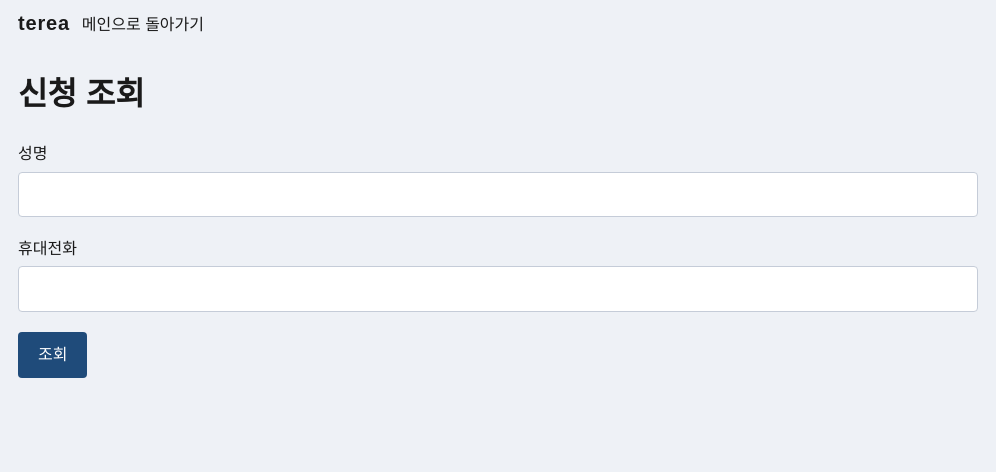
Scenario: R26: 신청 조회 승인 시 QR·경비실 안내 › 대기 상태 조회 시 QR·경비실 안내가 없다
This screenshot has width=996, height=472.
Type "김대기" into the field labelled "성명" at (498,194), box [18,172,978,217]
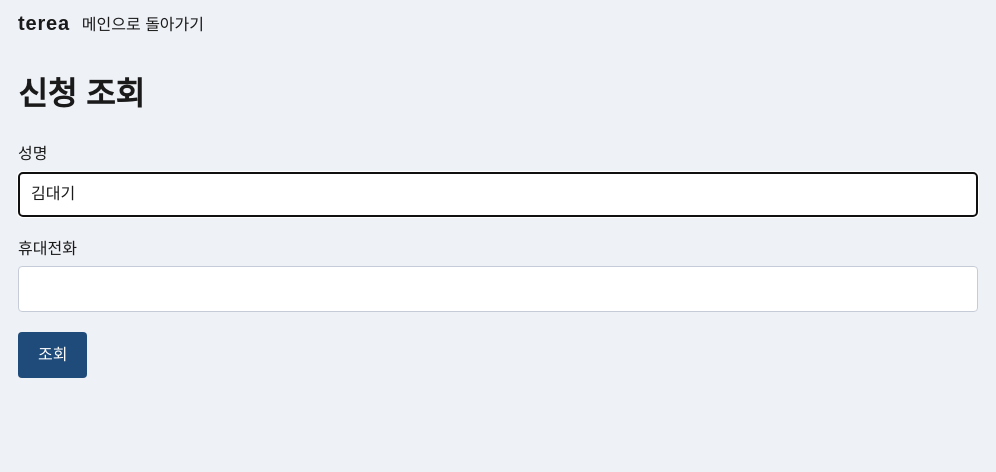
Type "01099998888" into the field labelled "휴대전화" at (498,289), box [18,266,978,312]
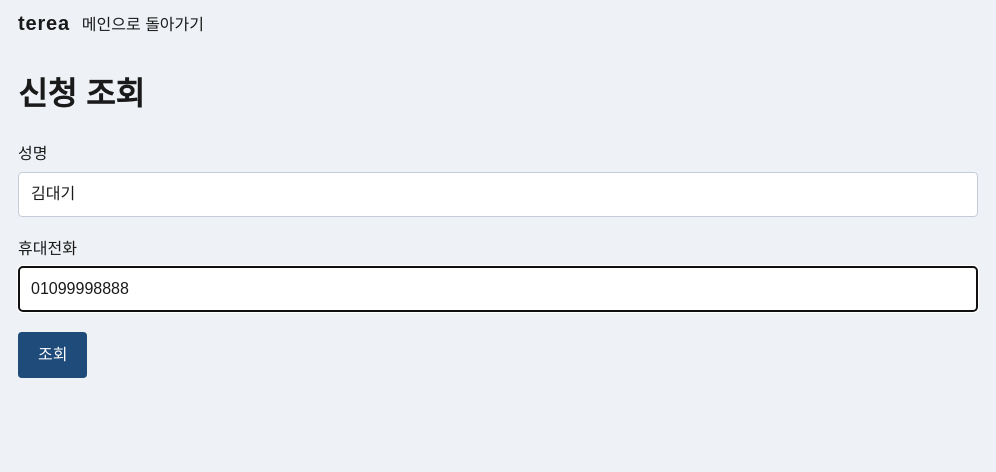
Click the button "조회" at (53,355), box [18,332,88,378]
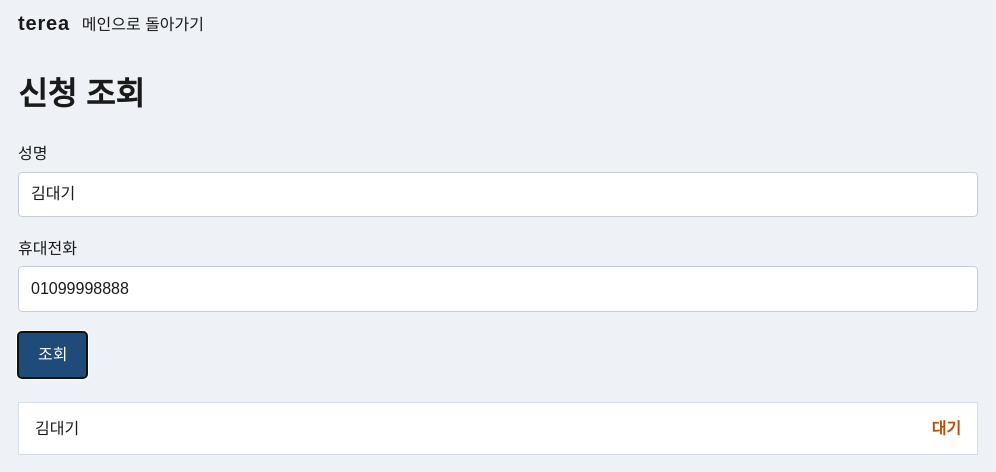
Check: the text "대기" is shown, box [932,416,961,440]
